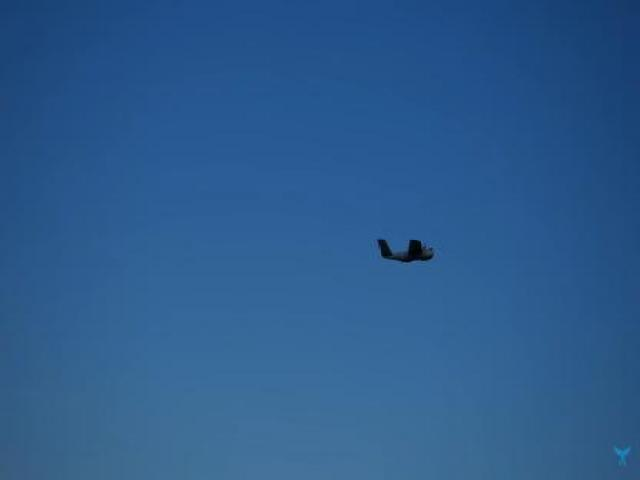uav: (369, 223, 440, 274)
